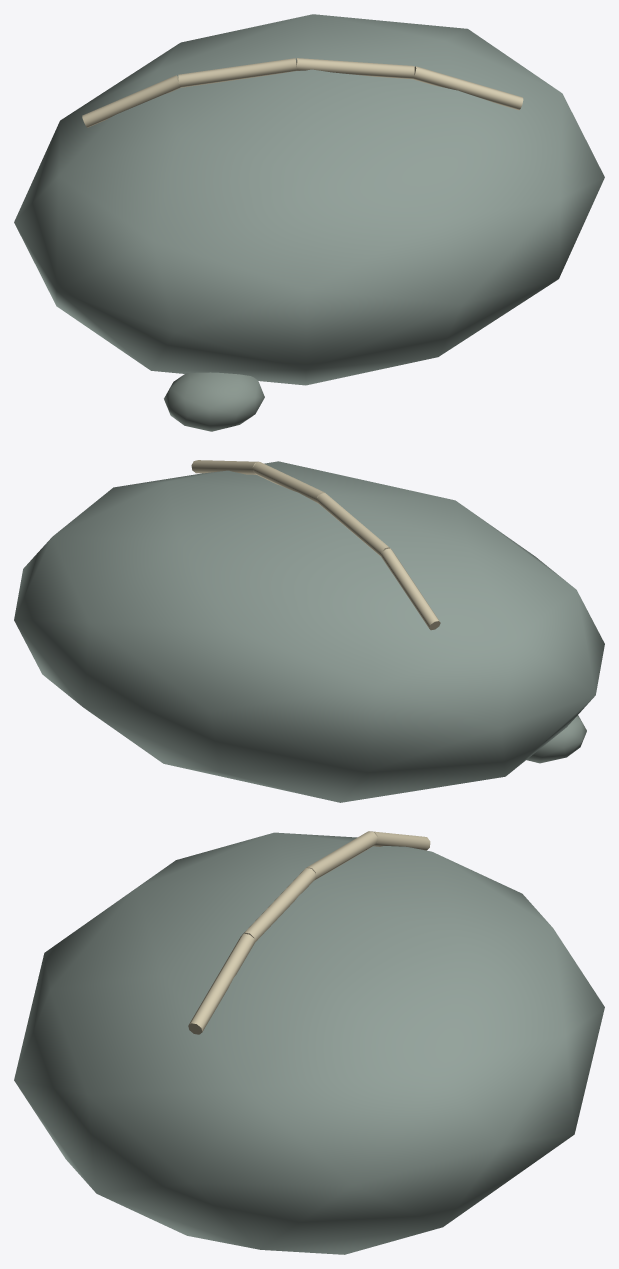
Rendered from discovery-roundstone.glb.
3 views of the same model, one above another, from view 1: azimuth 30°, elevation 25°; view 2: azimuth 150°, elevation 25°; view 3: azimuth 270°, elevation 25° (orthographic). The views are drawn at different scales.
Parts seen in each view (by area): view 1: discovery-roundstone-visual; view 2: discovery-roundstone-visual; view 3: discovery-roundstone-visual.
Boxes of the visible parts, <box> form: discovery-roundstone-visual: <box>14,14,604,431</box>; discovery-roundstone-visual: <box>14,460,604,802</box>; discovery-roundstone-visual: <box>14,831,604,1254</box>.
Bounding box in the file's own units: 0.8336 × 0.4115 × 0.673.
